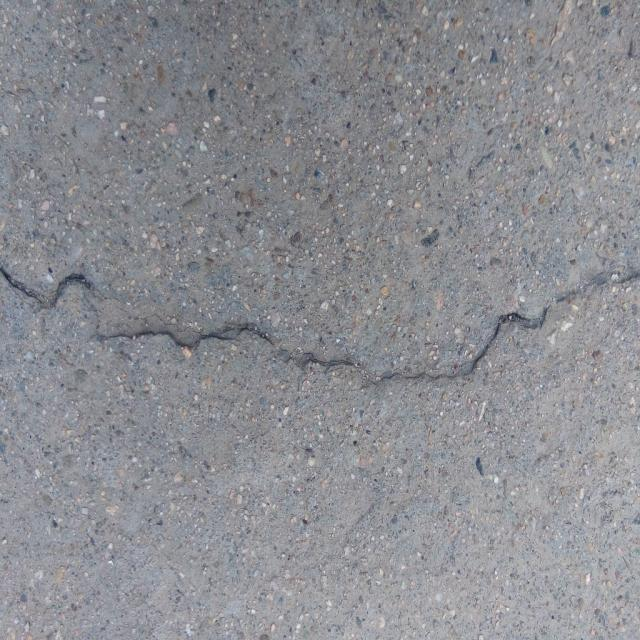cracks: (0, 249, 638, 399)
